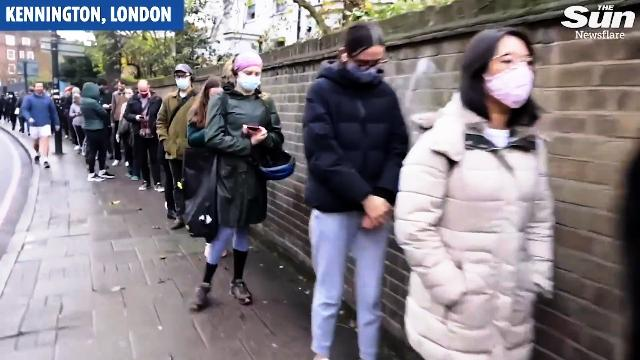berdiri: (396, 26, 564, 360), (298, 24, 409, 360), (184, 41, 296, 322)
